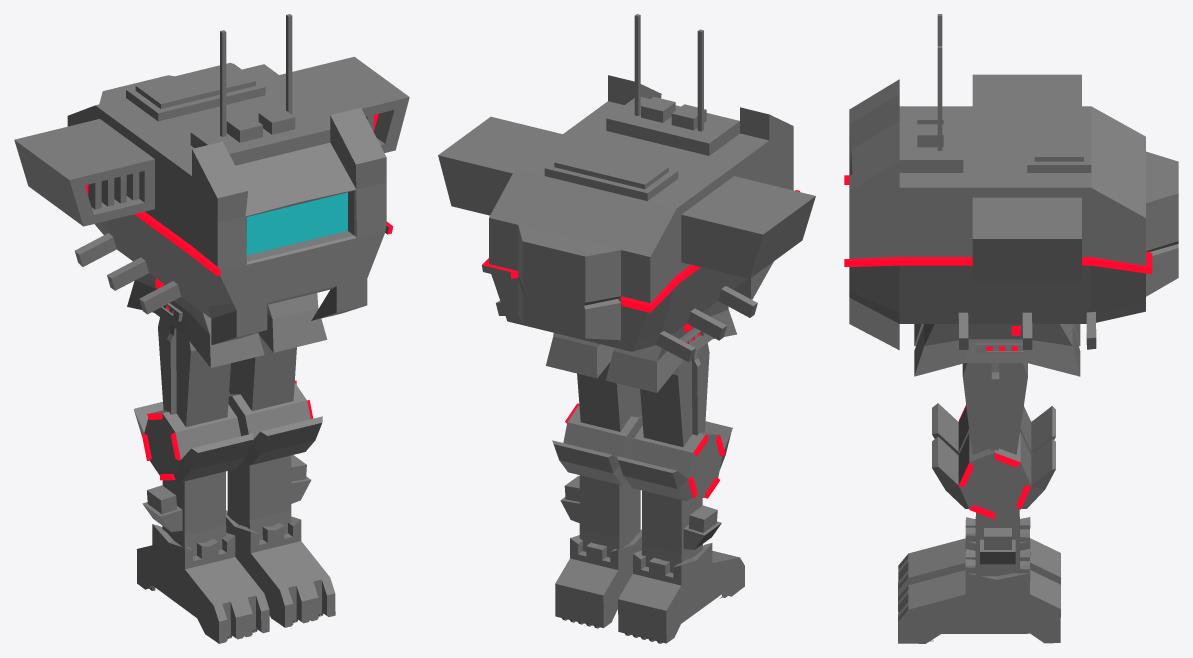
Rendered from W4LKR.fbx.
3 renders of one model, left to right at view 1: azimuth 30°, elevation 25°; view 2: azimuth 150°, elevation 25°; view 3: azimuth 270°, elevation 25°, orthographic. The views are drawn at different scales.
Visible parts, largest first — view 1: W4lKR; view 2: W4lKR; view 3: W4lKR.
Part boxes in pixels (bbox=[...]): W4lKR: bbox=[14, 14, 409, 643]; W4lKR: bbox=[438, 14, 815, 643]; W4lKR: bbox=[844, 14, 1178, 643].
Bounding box in the file's own units: 201 × 335 × 173.
